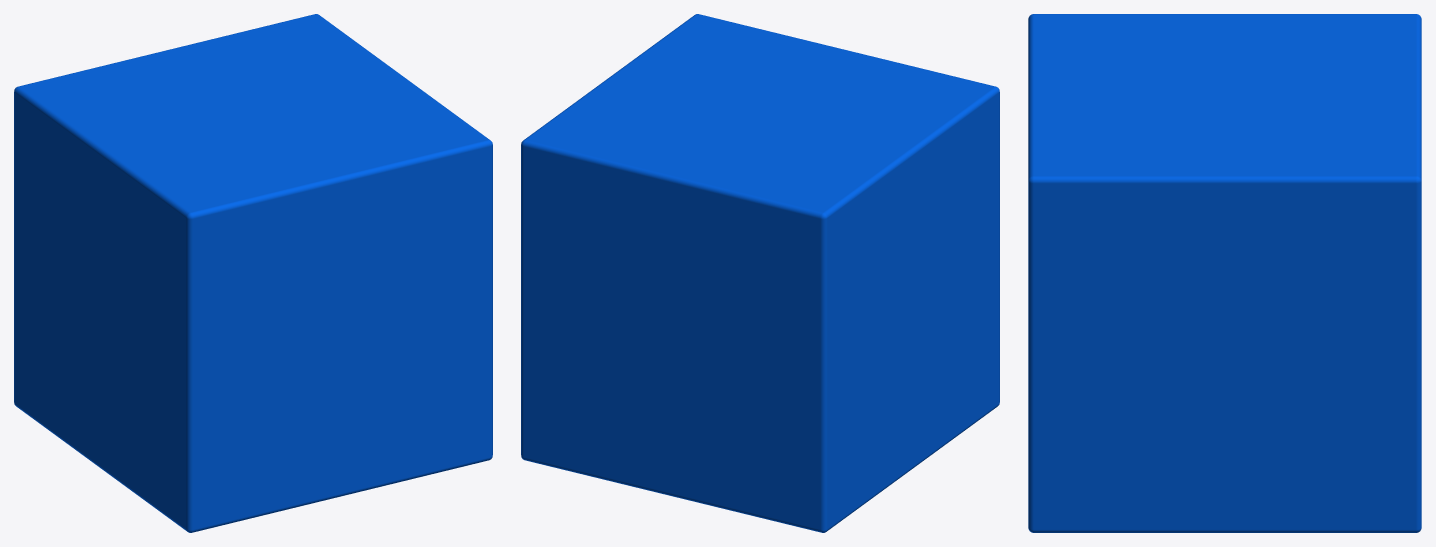
The model's file is baseCubeBlockSRound.glb.
The picture shows the model from 3 angles, left to right: view 1: azimuth 30°, elevation 25°; view 2: azimuth 150°, elevation 25°; view 3: azimuth 270°, elevation 25°; orthographic projection. The views are drawn at different scales.
Visible parts, largest first — view 1: Cube; view 2: Cube; view 3: Cube.
Boxes of the visible parts, bbox=[...] form: Cube: bbox=[14, 14, 492, 532]; Cube: bbox=[521, 14, 999, 532]; Cube: bbox=[1028, 14, 1421, 532].
Bounding box in the file's own units: 2 × 2 × 2.
